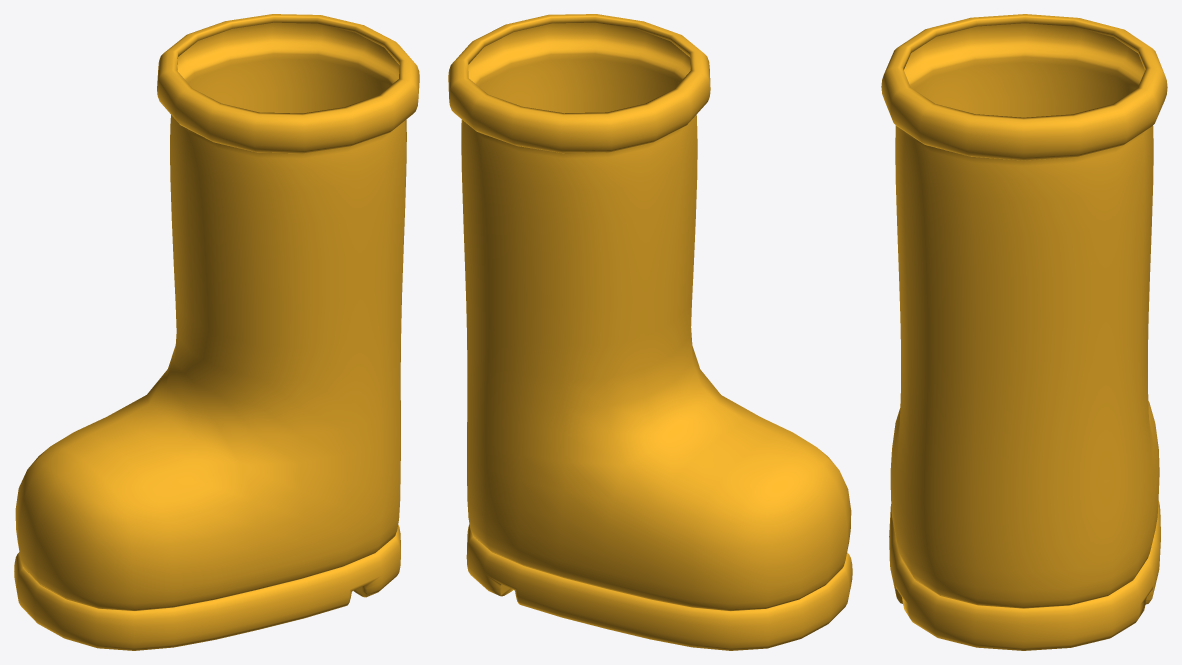
The model's file is boot.fbx.
3 renders of one model, left to right at view 1: azimuth 30°, elevation 25°; view 2: azimuth 150°, elevation 25°; view 3: azimuth 270°, elevation 25°, orthographic. The views are drawn at different scales.
Visible parts, largest first — view 1: RubberBoot; view 2: RubberBoot; view 3: RubberBoot.
Part boxes in pixels (left/top/right/bottom): RubberBoot: left=14, top=14, right=419, bottom=650; RubberBoot: left=448, top=14, right=852, bottom=650; RubberBoot: left=881, top=14, right=1167, bottom=650.
Size of the model in its own units: 20.48 by 26.82 by 12.93.
